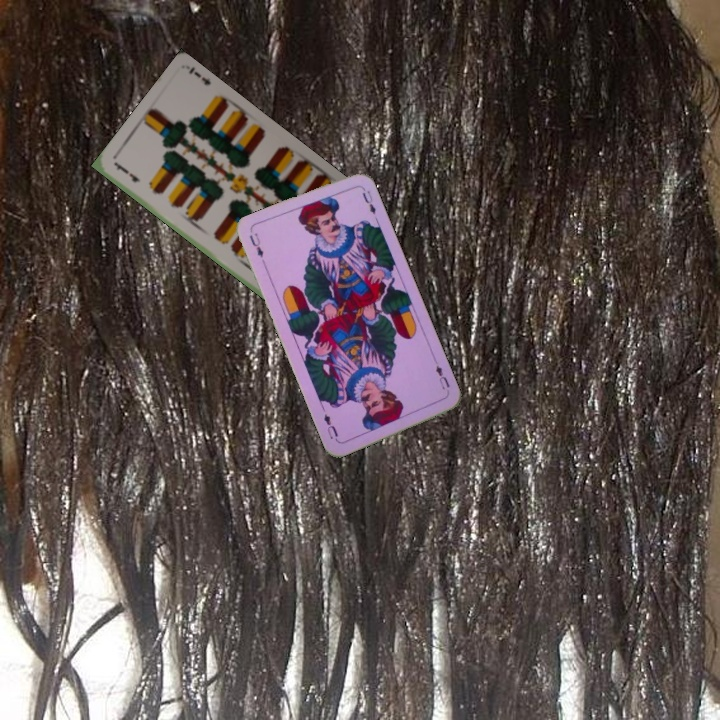E7: (111, 159, 143, 185)
EU: (431, 357, 452, 396), (245, 229, 266, 260)
